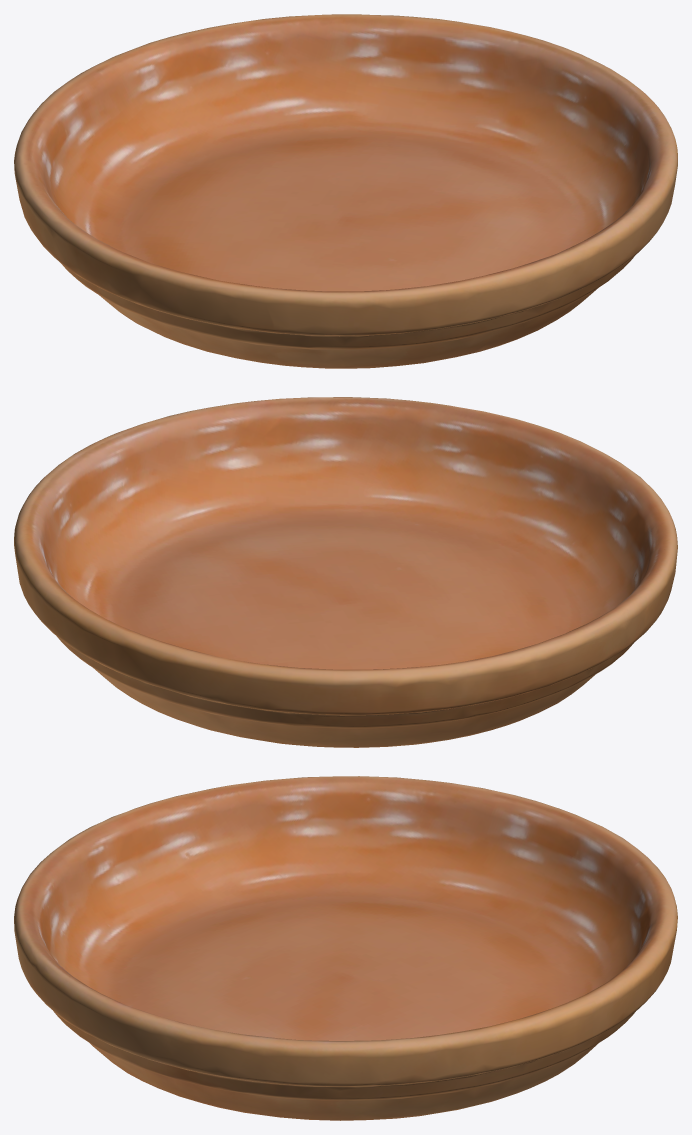
The model's file is Cole_Hardware_Saucer_Glazed_6.glb.
3 renders of one model, top to bottom at view 1: azimuth 30°, elevation 25°; view 2: azimuth 150°, elevation 25°; view 3: azimuth 270°, elevation 25°, orthographic.
Visible parts, largest first — view 1: Cole_Hardware_Saucer_Glazed_6; view 2: Cole_Hardware_Saucer_Glazed_6; view 3: Cole_Hardware_Saucer_Glazed_6.
Boxes of the visible parts, x1,y1,x2,y2 form: Cole_Hardware_Saucer_Glazed_6: (14, 14, 677, 368); Cole_Hardware_Saucer_Glazed_6: (14, 397, 677, 747); Cole_Hardware_Saucer_Glazed_6: (14, 776, 677, 1120).
Size of the model in its own units: 0.1599 by 0.0299 by 0.1597.
1 material, 1 textured.
